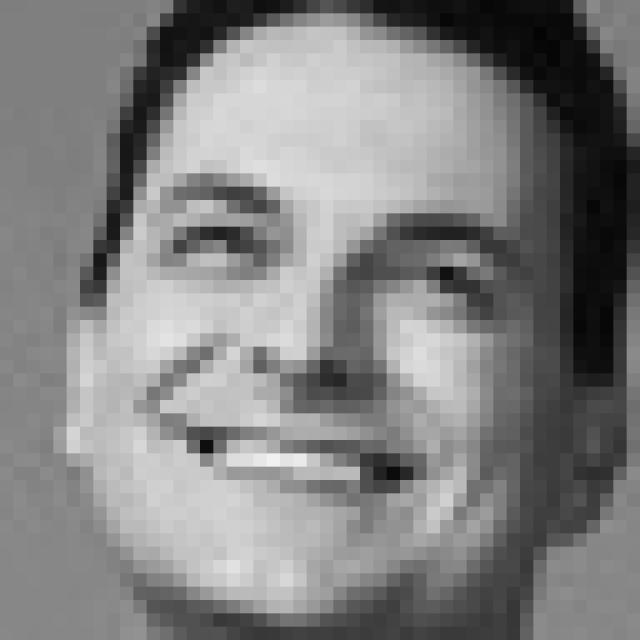happy: (127, 166, 539, 520)
